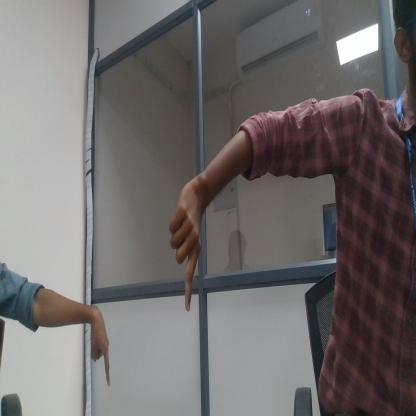Down: (164, 191, 204, 312), (88, 300, 116, 402)
